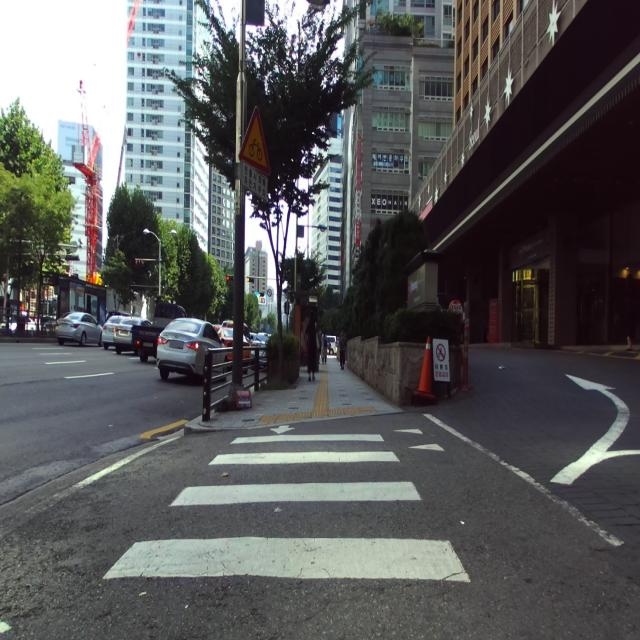횡단보도: (103, 424, 471, 582)
